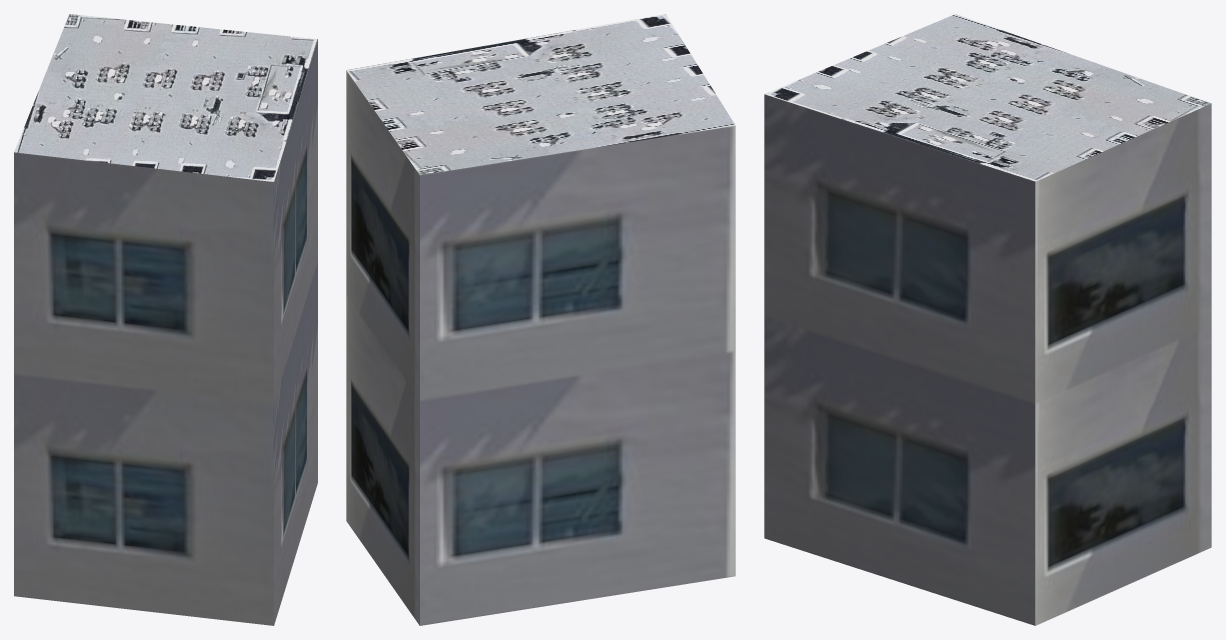
Rendered from ResTex__3340.fbx.
The picture shows the model from 3 angles, left to right: view 1: azimuth 30°, elevation 25°; view 2: azimuth 150°, elevation 25°; view 3: azimuth 270°, elevation 25°; orthographic projection.
Parts seen in each view (by area): view 1: CityEngineMaterial_10_m, CityEngineMaterial_m; view 2: CityEngineMaterial_10_m, CityEngineMaterial_m; view 3: CityEngineMaterial_10_m, CityEngineMaterial_m.
Boxes of the visible parts, x1,y1,x2,y2 form: CityEngineMaterial_10_m: (14, 39, 317, 625); CityEngineMaterial_m: (14, 14, 317, 181); CityEngineMaterial_10_m: (346, 71, 735, 625); CityEngineMaterial_m: (346, 14, 735, 175); CityEngineMaterial_10_m: (764, 94, 1211, 625); CityEngineMaterial_m: (765, 14, 1210, 181).
Size of the model in its own units: 4.86 by 6 by 5.47.
Materials: 2 (2 with a texture image).
